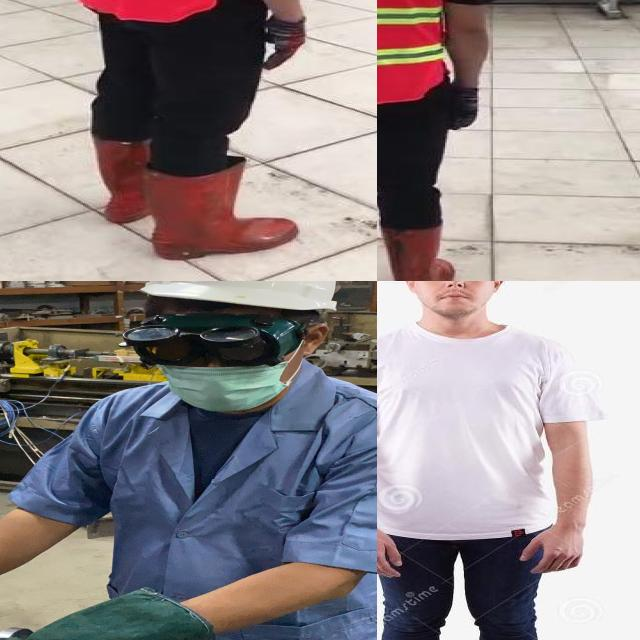No_Ear-Protection: (304, 323, 331, 356), (489, 281, 510, 298), (396, 281, 419, 292)
boots: (146, 163, 296, 260), (96, 138, 202, 225), (379, 226, 455, 281)
face_mask: (157, 361, 288, 412)
face_nomask: (416, 281, 490, 311)
glasses: (123, 314, 306, 366)
hand_glove: (0, 589, 217, 640), (261, 17, 307, 71), (448, 89, 481, 130)
hand_noglove: (521, 501, 593, 580), (377, 506, 410, 583)
head_helmet: (141, 281, 337, 310)
person: (30, 0, 348, 274), (377, 281, 606, 640), (377, 0, 503, 281)
